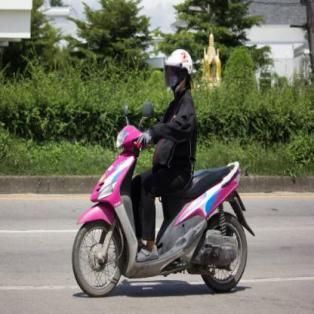Motocicleta: (67, 104, 255, 295)
